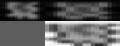dirt: (45, 22, 120, 46), (0, 1, 45, 21)
stone: (45, 1, 120, 21)
